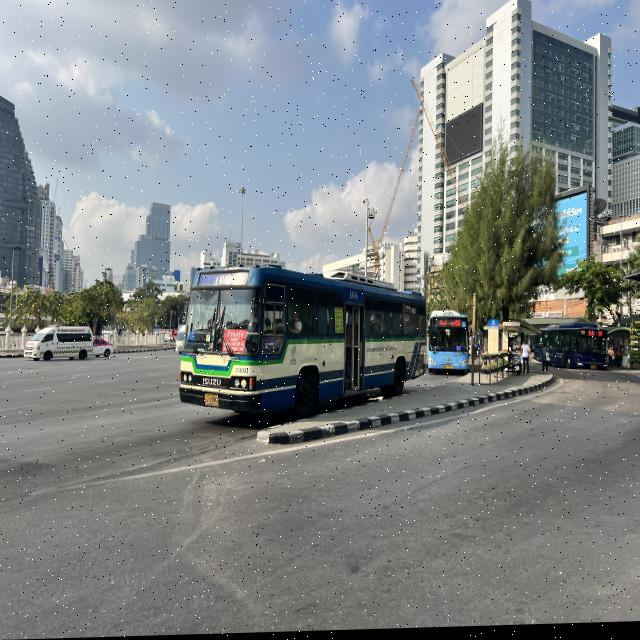BMTA-bus: (177, 268, 427, 425), (428, 312, 470, 383)
Bus Line Number: (212, 273, 233, 289), (454, 321, 462, 330)
Bus Side Number: (234, 367, 250, 377), (452, 366, 461, 370)
Destination Sign: (222, 330, 247, 358), (453, 347, 464, 354)
TSB-Bus: (533, 323, 620, 376)
